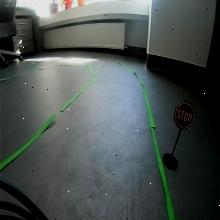stop: (174, 100, 195, 131)
